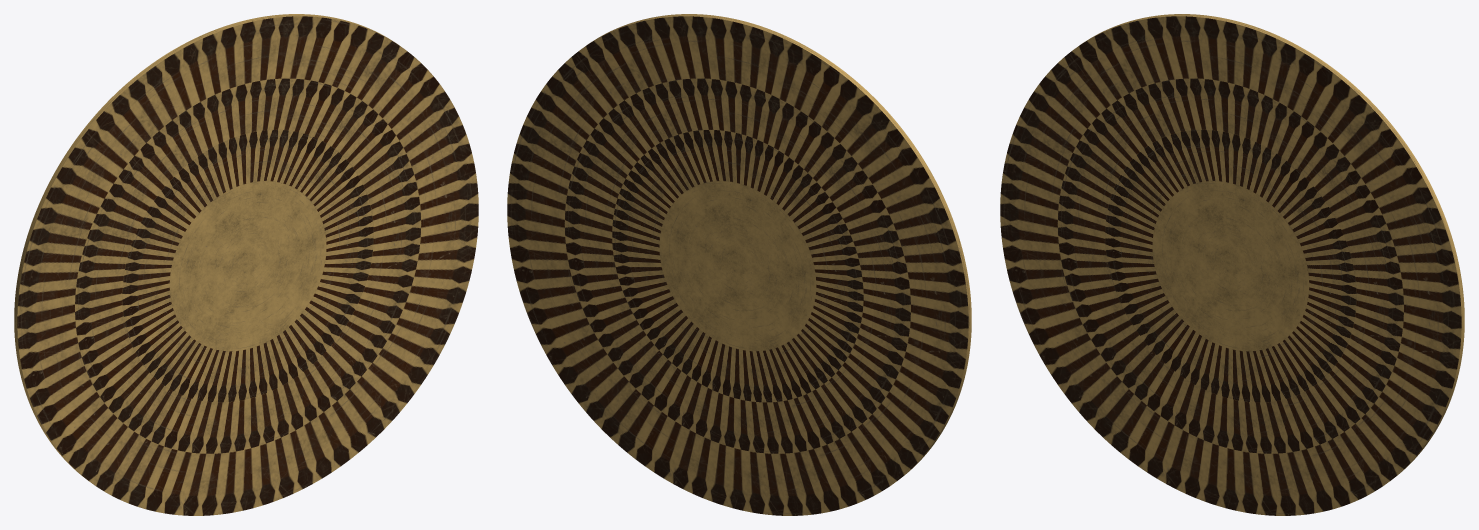
File: SM_Circle_Board.fbx
3 views of the same model, side by side, from view 1: azimuth 30°, elevation 25°; view 2: azimuth 150°, elevation 25°; view 3: azimuth 330°, elevation 25° (orthographic).
Parts seen in each view (by area): view 1: SM_Circle_Board_LOD0; view 2: SM_Circle_Board_LOD0; view 3: SM_Circle_Board_LOD0.
Boxes of the visible parts, x1,y1,x2,y2 form: SM_Circle_Board_LOD0: (14,14,478,515); SM_Circle_Board_LOD0: (507,14,971,515); SM_Circle_Board_LOD0: (1000,14,1464,515).
Size of the model in its own units: 1219 by 14.6 by 1229.
